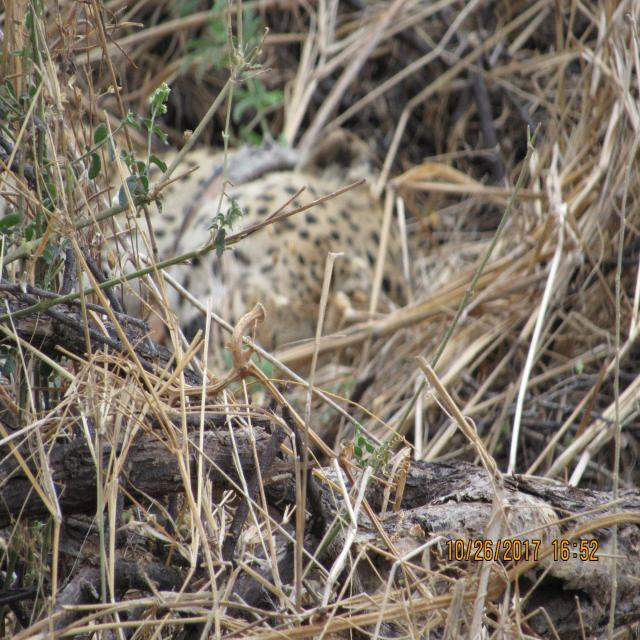Leopard: (37, 114, 428, 391)
